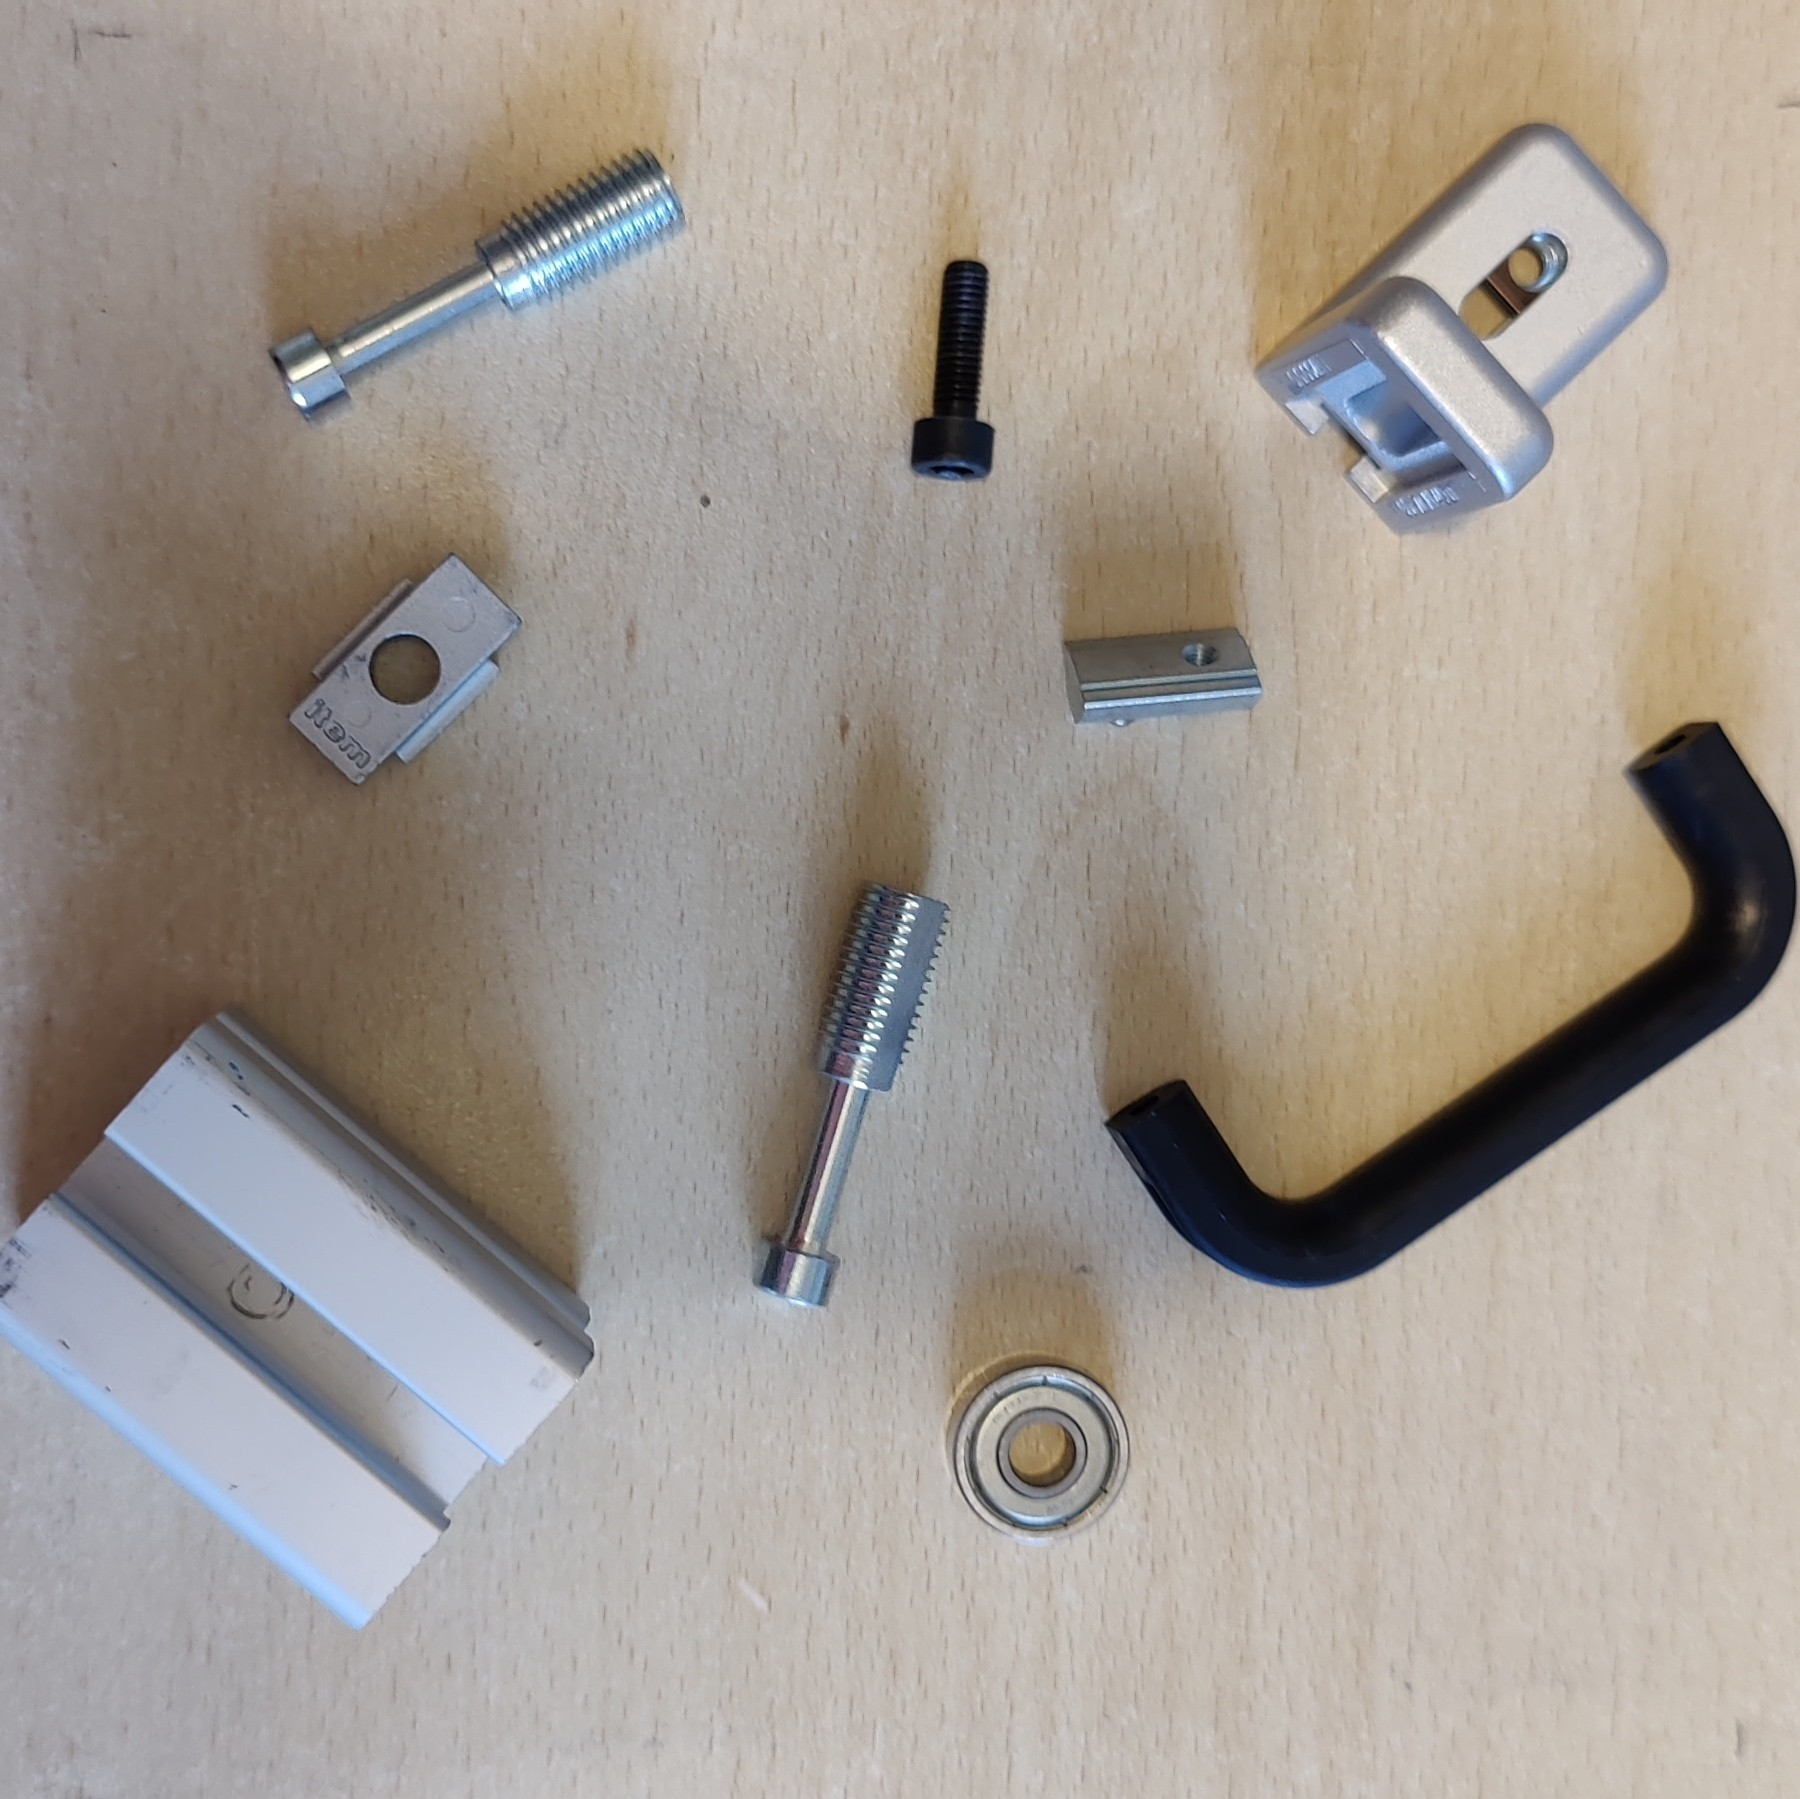Aluminium Extension: (2, 998, 598, 1634)
Ball Bearing: (940, 1349, 1135, 1545)
Multiwinkel: (1252, 119, 1673, 539)
Pull Handle: (1100, 715, 1800, 1292)
Shoulder Socket Head Cap Screw: (265, 143, 688, 428), (748, 876, 954, 1313)
Socket Head Cap Screw: (906, 255, 996, 483)
T Nut Square: (285, 549, 527, 792)
T Spring Nut: (1057, 621, 1263, 731)
